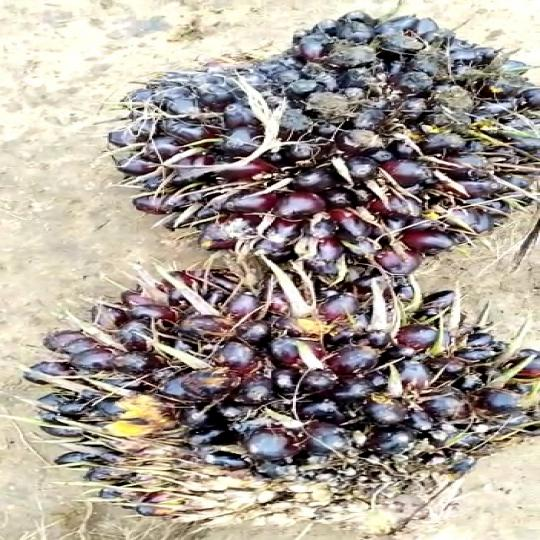mentah: (13, 262, 540, 523), (99, 7, 540, 277)
